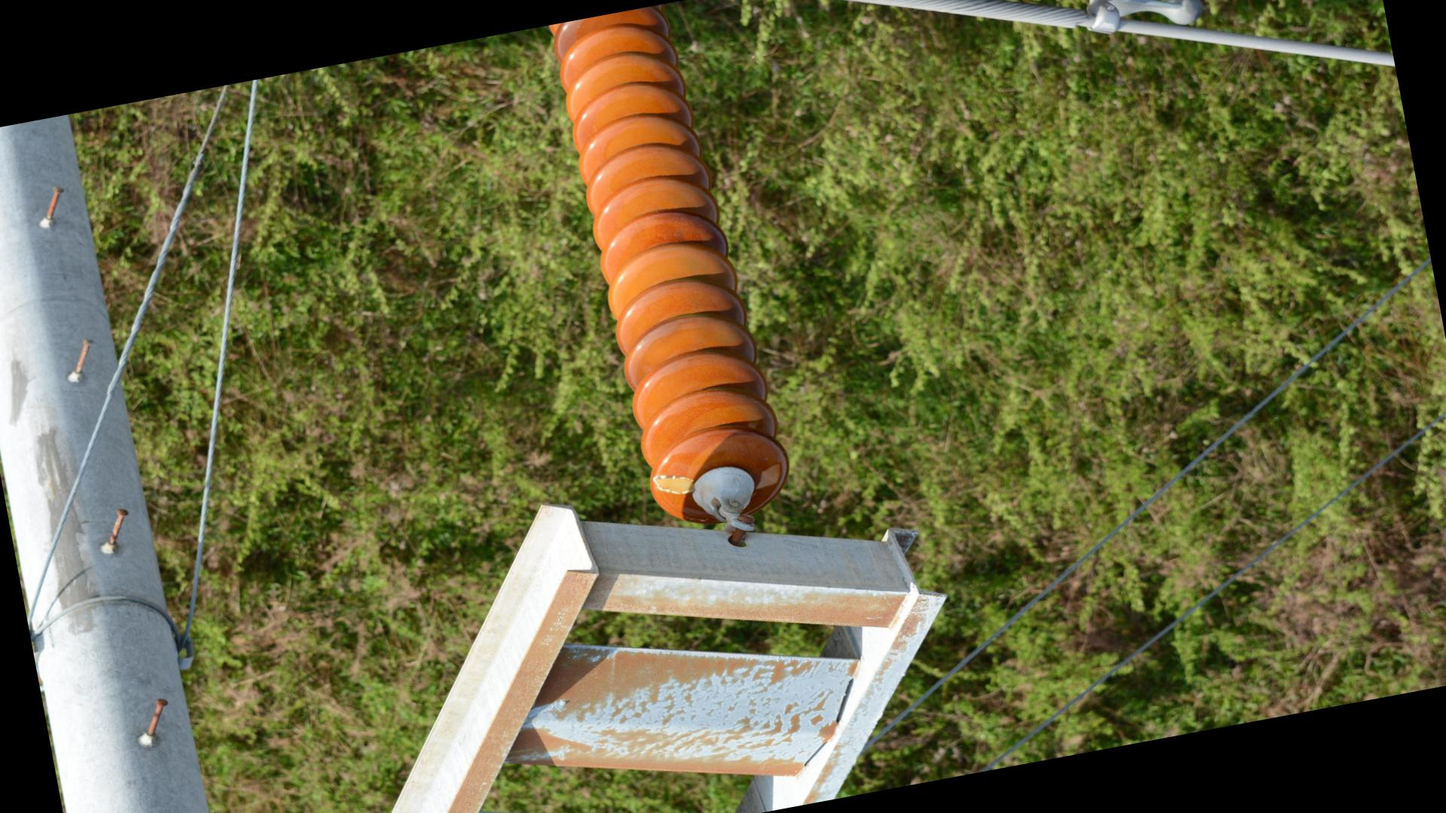damper: (966, 1, 1213, 65)
